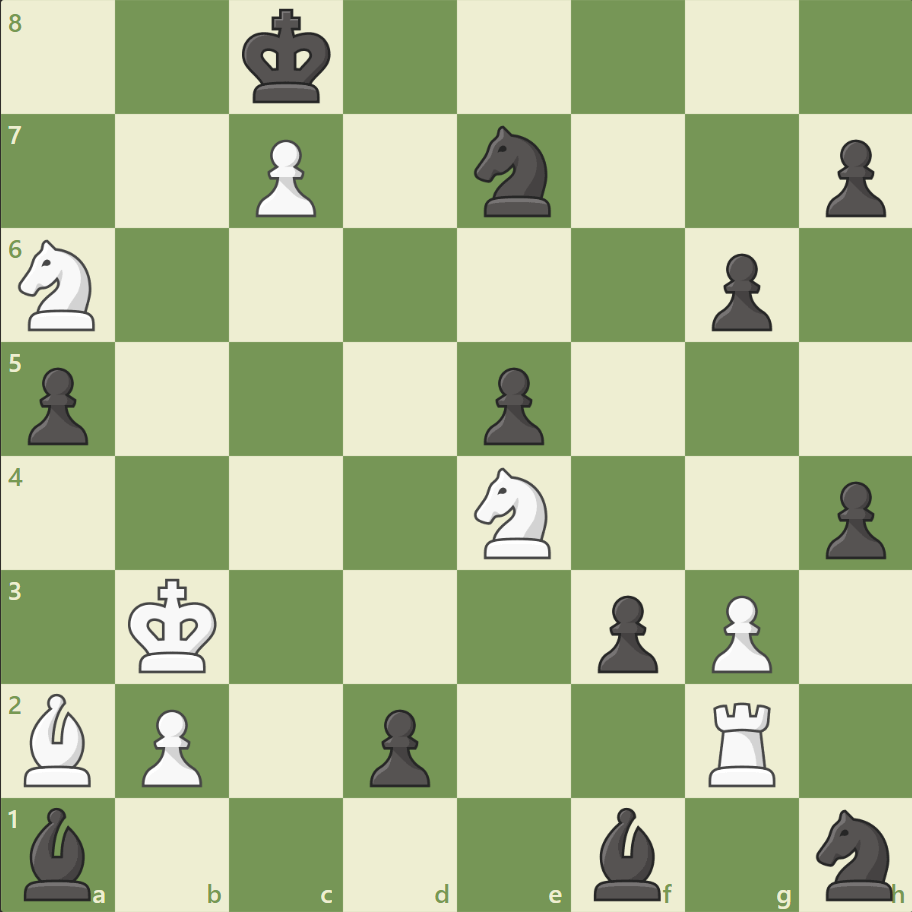B: (17, 687, 101, 790)
K: (124, 571, 224, 679)
N: (11, 234, 108, 337), (465, 461, 562, 564)
P: (247, 132, 322, 223), (701, 586, 776, 677), (133, 700, 208, 791)
R: (700, 693, 783, 790)
b: (17, 801, 101, 904), (585, 801, 669, 904)
k: (238, 4, 338, 112)
n: (465, 121, 562, 223), (806, 802, 903, 904)
p: (701, 246, 776, 337), (20, 359, 95, 450), (474, 359, 549, 450), (815, 132, 889, 223), (815, 473, 889, 564), (588, 586, 662, 677), (361, 700, 435, 791)
